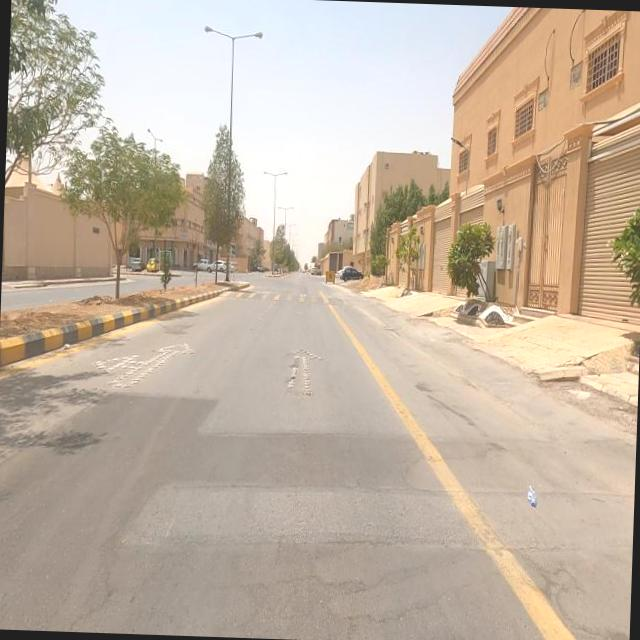debris: (493, 450, 561, 540)
